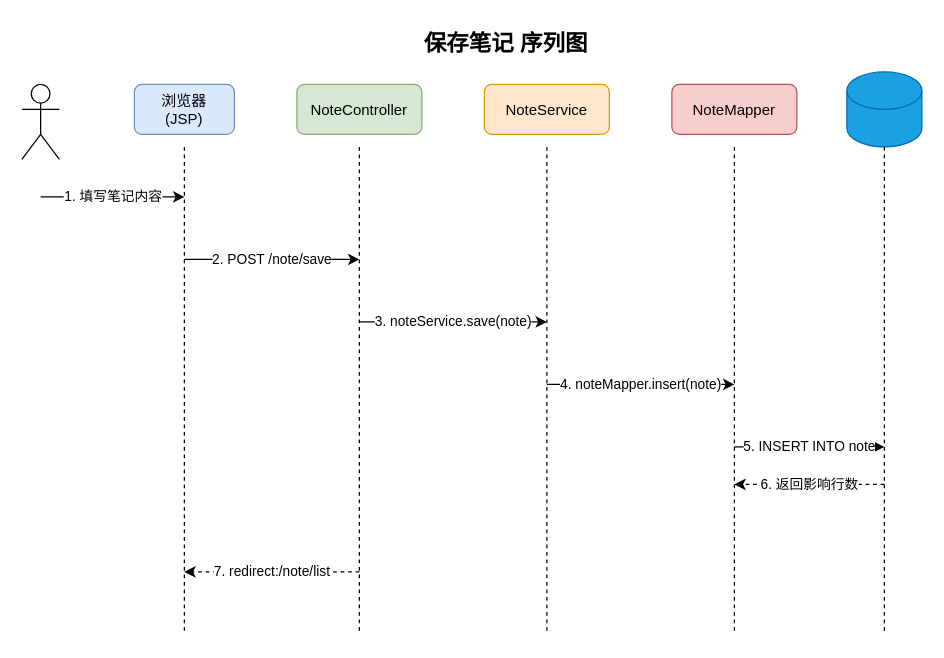
This 944x658 diagram has some shape labels left out. Each missing label, with the box of its shape:
MySQL: (846, 71, 922, 147)
用户: (21, 83, 59, 159)
